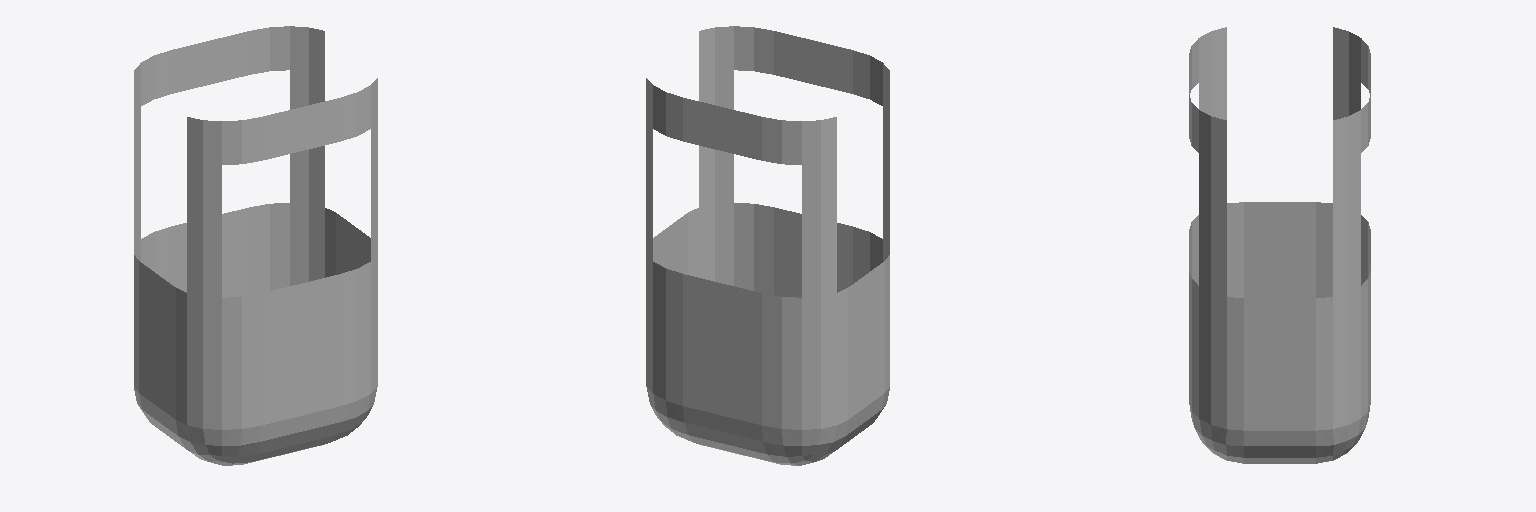
Rendered from bag3_17.obj.
The picture shows the model from 3 angles: view 1: azimuth 30°, elevation 25°; view 2: azimuth 150°, elevation 25°; view 3: azimuth 270°, elevation 25°; orthographic projection.
Parts seen in each view (by area): view 1: Cube-0-1.082_Cube.197; view 2: Cube-0-1.082_Cube.197; view 3: Cube-0-1.082_Cube.197.
Part boxes in pixels (bbox=[...]): Cube-0-1.082_Cube.197: bbox=[134, 26, 377, 465]; Cube-0-1.082_Cube.197: bbox=[646, 26, 889, 465]; Cube-0-1.082_Cube.197: bbox=[1189, 27, 1370, 463].
Bounding box in the file's own units: 2 × 3.53 × 1.6.